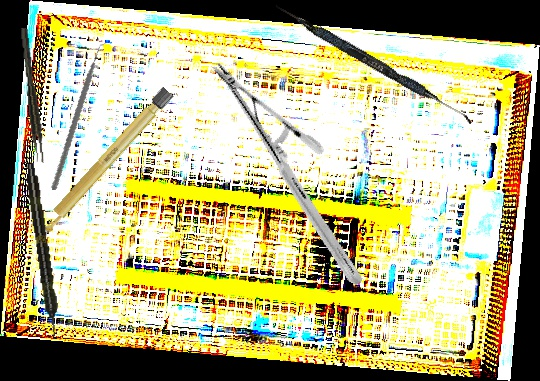Chopper: (20, 41, 144, 191)
Handpiece: (22, 162, 63, 339)
Needle Holder: (154, 61, 421, 287)
Scalpel Handle: (35, 86, 174, 239)
Spatula Surgical: (271, 2, 477, 125)
Tissue Forceps: (20, 27, 46, 164)
